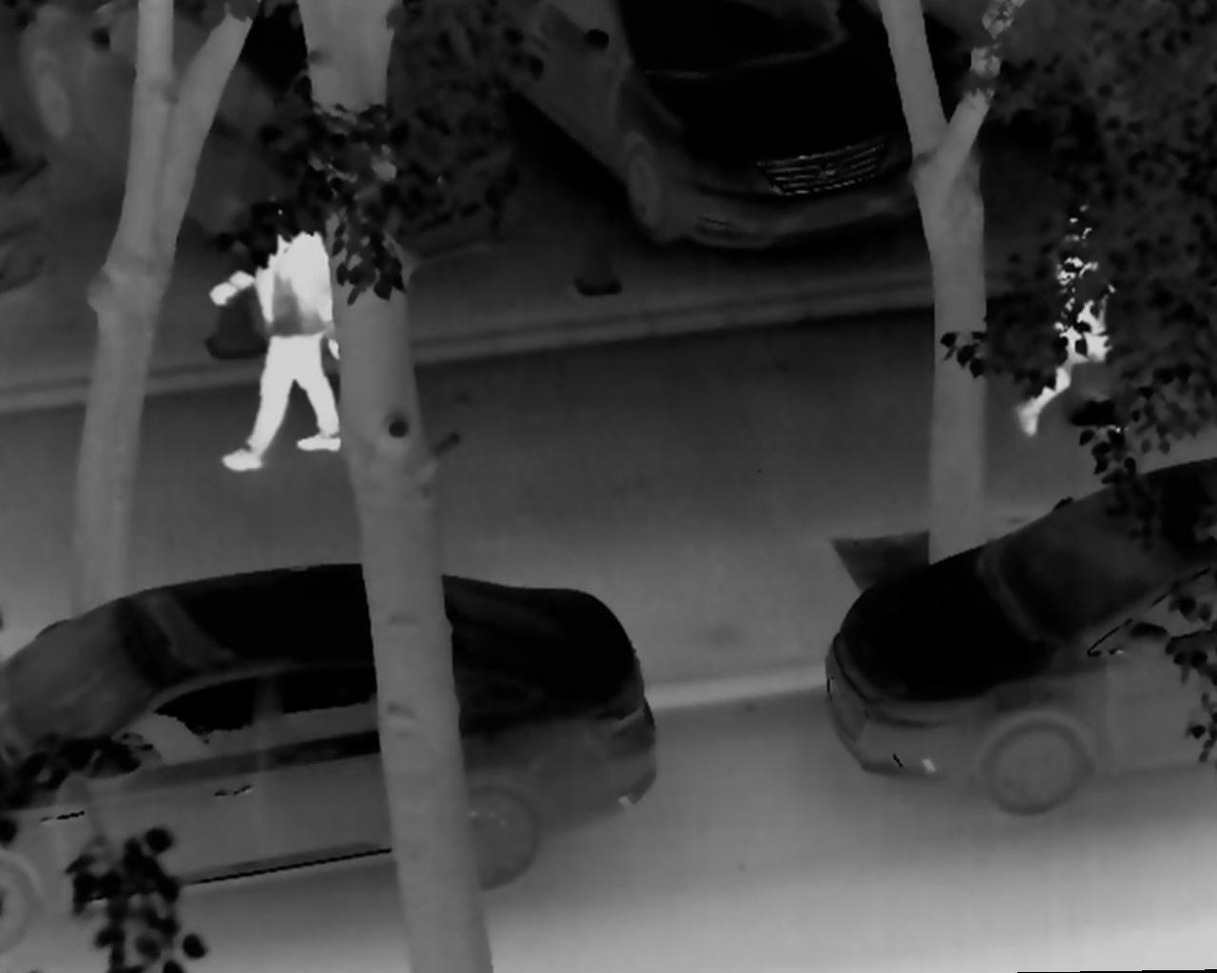person: (200, 187, 361, 474), (1012, 184, 1142, 443)
